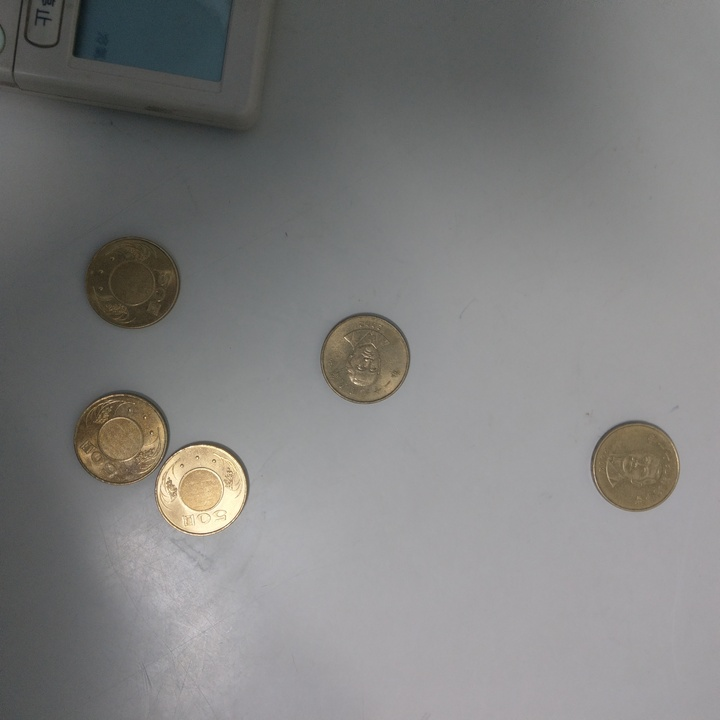50 dollar: (318, 309, 415, 410), (84, 238, 183, 330), (153, 441, 248, 536), (74, 392, 170, 486), (592, 422, 683, 514)
